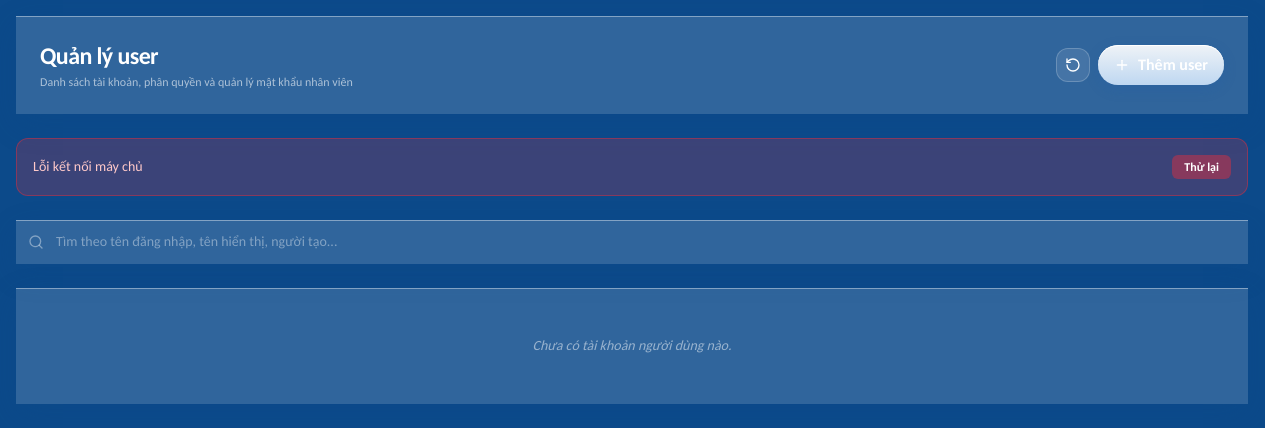
Scenario: UsersPage › xử lý lỗi khi tải danh sách người dùng và nút Thử lại hoạt động
Expected: the text "Lỗi kết nối máy chủ" is shown, [33, 157, 143, 177]
Click the button "Thử lại".
click(1202, 167)  # box [1172, 155, 1231, 179]
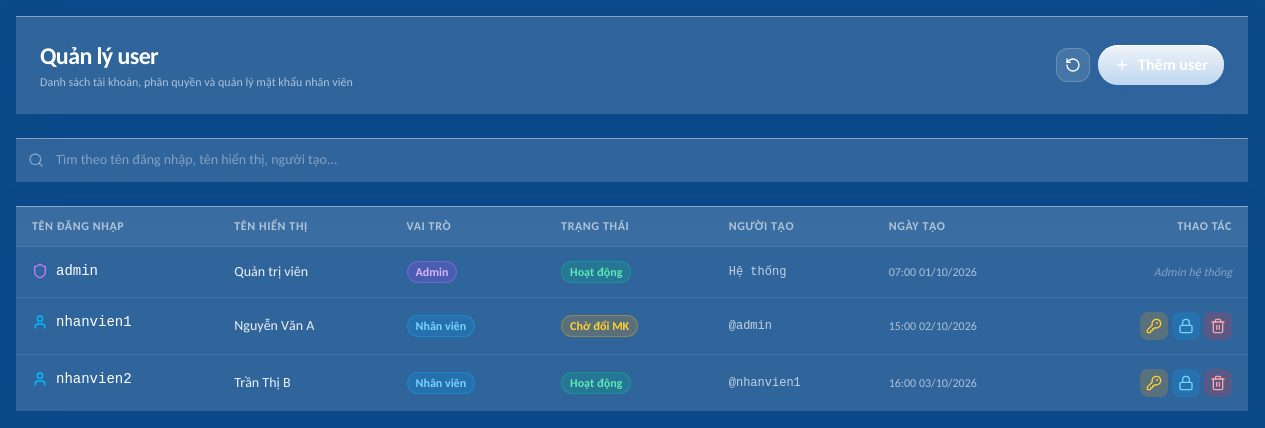
Result: the text "admin" is shown at [56, 261, 98, 281]
